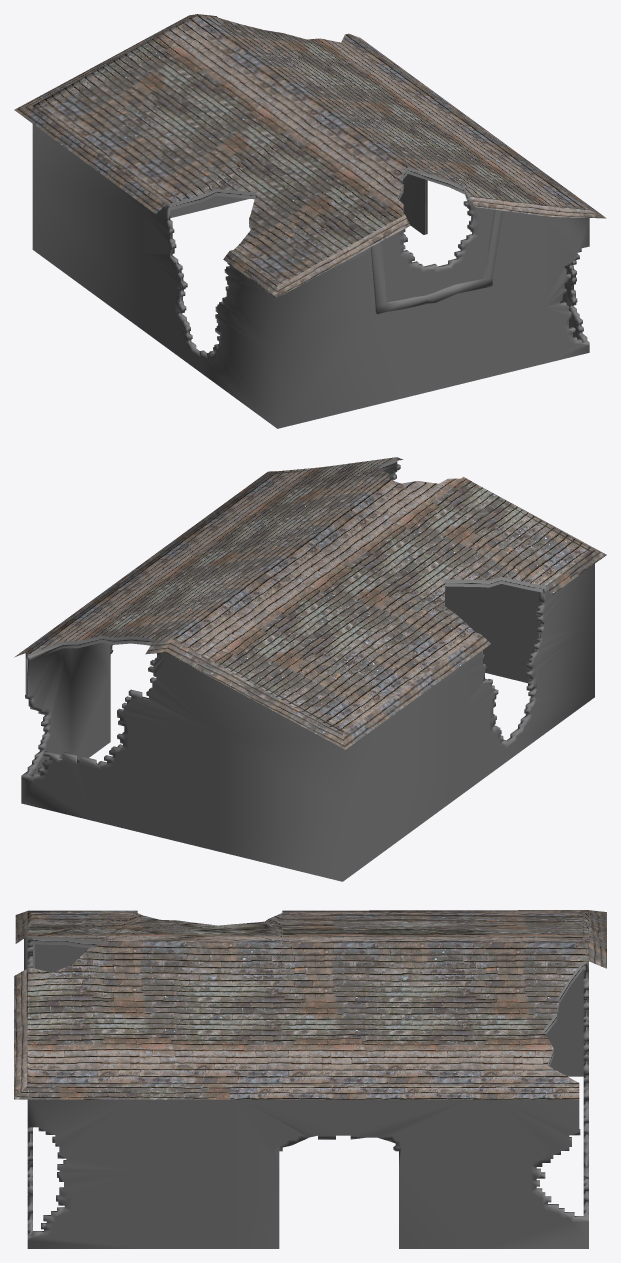
The model's file is Ruin2_lod0.fbx.
The picture shows the model from 3 angles, top to bottom: view 1: azimuth 30°, elevation 25°; view 2: azimuth 150°, elevation 25°; view 3: azimuth 270°, elevation 25°; orthographic projection. The views are drawn at different scales.
Visible parts, largest first — view 1: Default_Layer; view 2: Default_Layer; view 3: Default_Layer.
Boxes of the visible parts, x1,y1,x2,y2 form: Default_Layer: [14, 14, 606, 428]; Default_Layer: [14, 457, 606, 881]; Default_Layer: [14, 910, 606, 1248].
Size of the model in its own units: 1364 by 767 by 1830.
